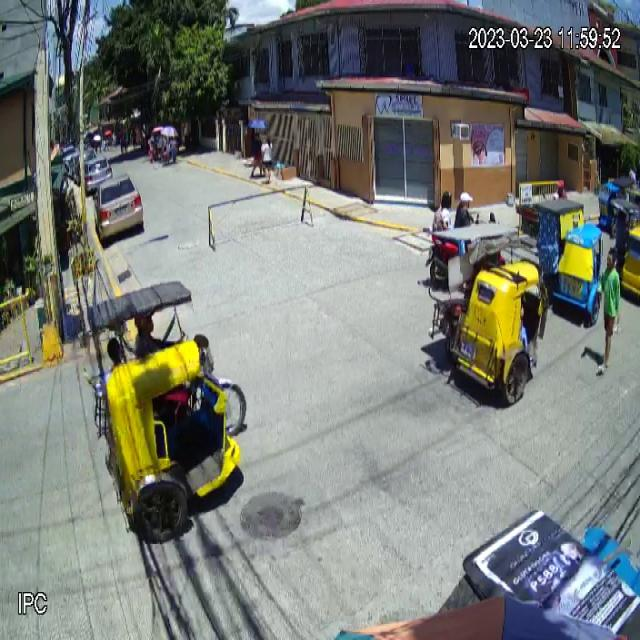Tricycle: (82, 280, 248, 544), (427, 222, 550, 406)
